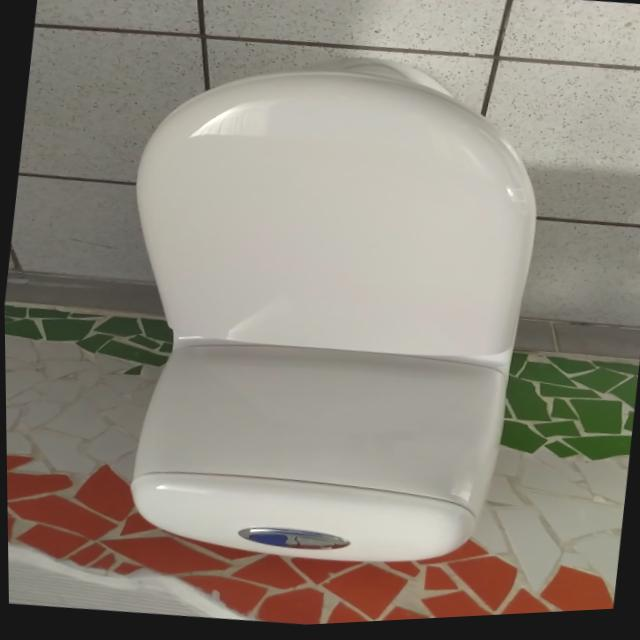toilet: (88, 27, 559, 594)
